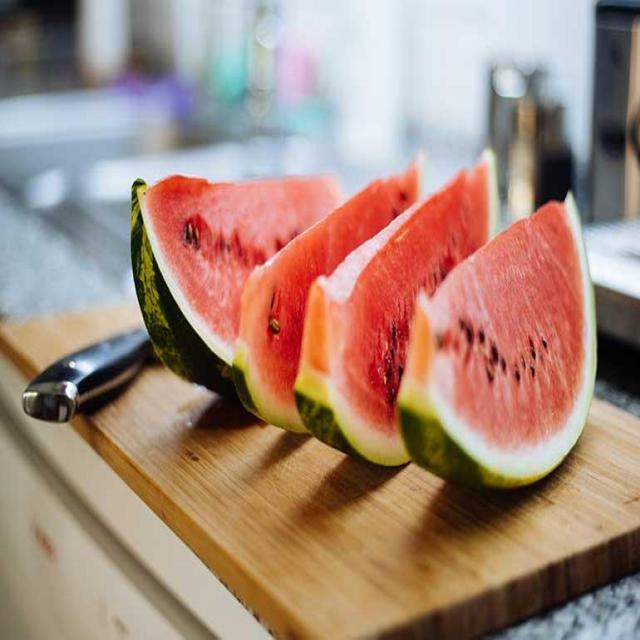watermelon: (290, 141, 506, 488), (400, 188, 600, 499), (239, 145, 421, 441), (130, 160, 343, 400)
